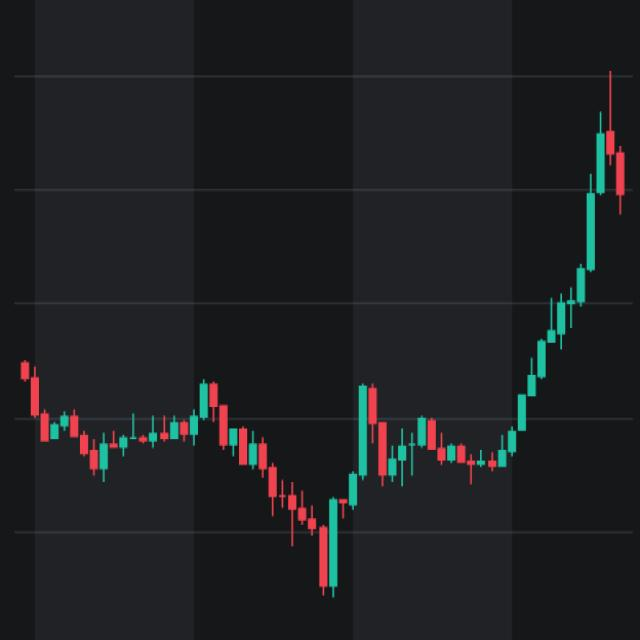Inverse-Head-Shoulders: (23, 360, 532, 616)
